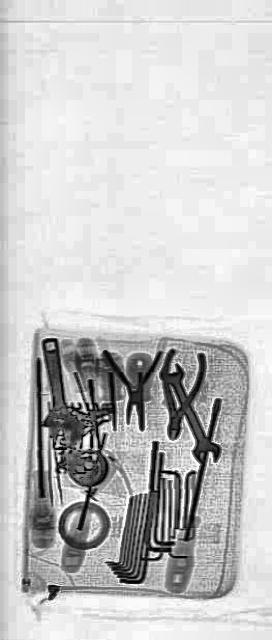Pliers: (154, 331, 206, 452)
Wrench: (157, 341, 220, 481), (32, 324, 82, 468)
